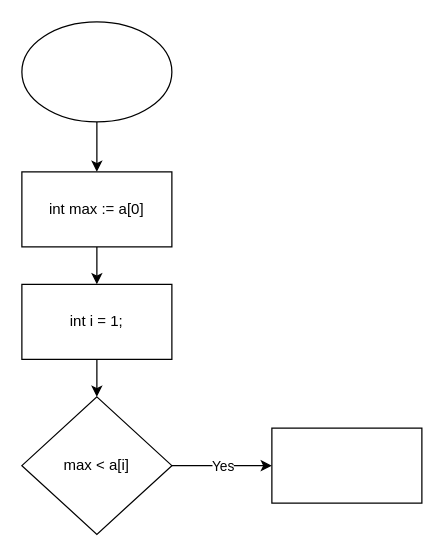
This 444x556 diagram has some shape labels left out. Here are the shapes that lost their labels. From the top down, the centre of each, then its label:
(x=96, y=71): Begin
(x=346, y=465): max = a[i]
